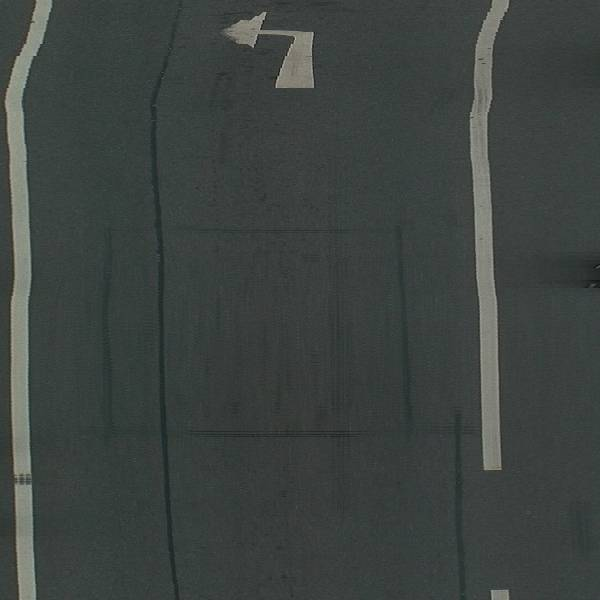road_damage: (94, 218, 426, 446), (146, 406, 477, 600)
